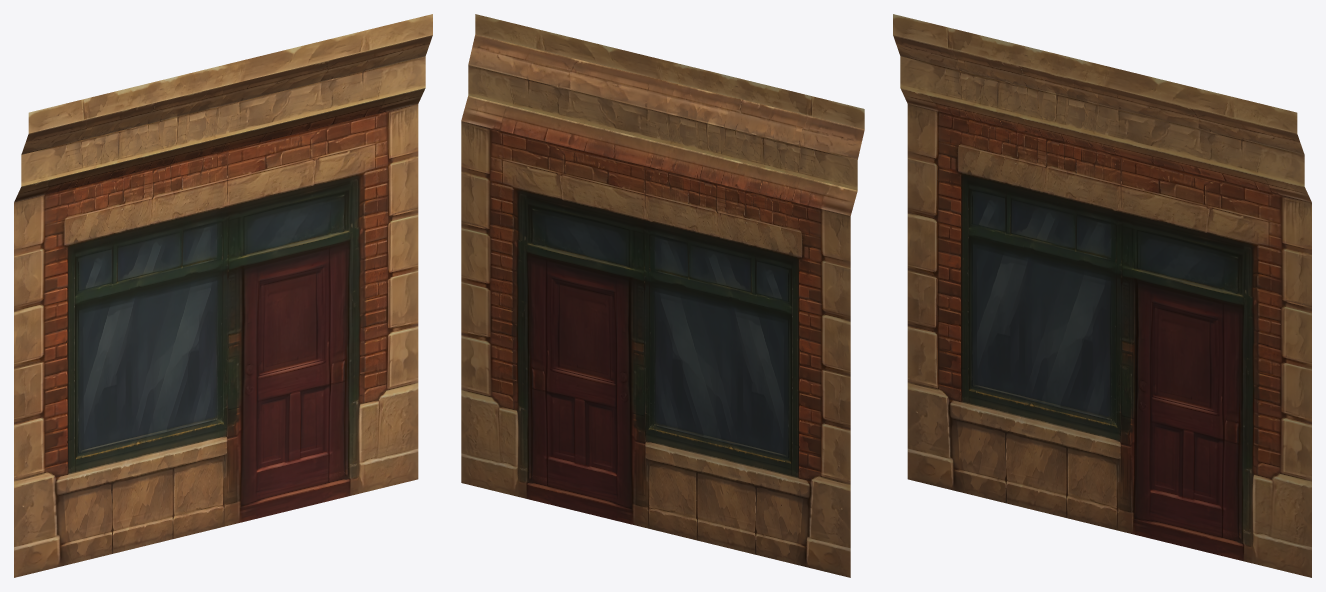
Rendered from BRK_G_Bay4A.fbx.
3 views of the same model, side by side, from view 1: azimuth 30°, elevation 25°; view 2: azimuth 150°, elevation 25°; view 3: azimuth 330°, elevation 25° (orthographic). The views are drawn at different scales.
Visible parts, largest first — view 1: BRK_G_Bay4A; view 2: BRK_G_Bay4A; view 3: BRK_G_Bay4A.
Part boxes in pixels (bbox=[...]): BRK_G_Bay4A: bbox=[14, 14, 432, 577]; BRK_G_Bay4A: bbox=[461, 14, 864, 577]; BRK_G_Bay4A: bbox=[893, 14, 1311, 577].
Size of the model in its own units: 4 by 0.25 by 4.5.
Materials: 1 (1 with a texture image).
